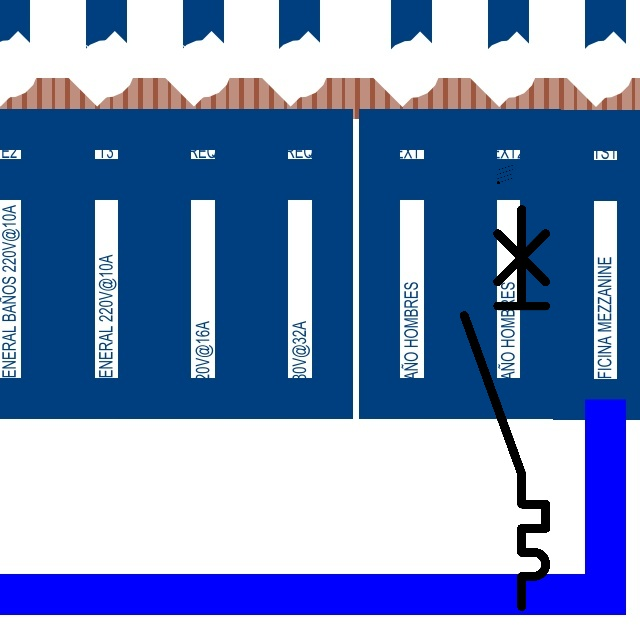interruptor_termomagnetico: (454, 199, 556, 617)
